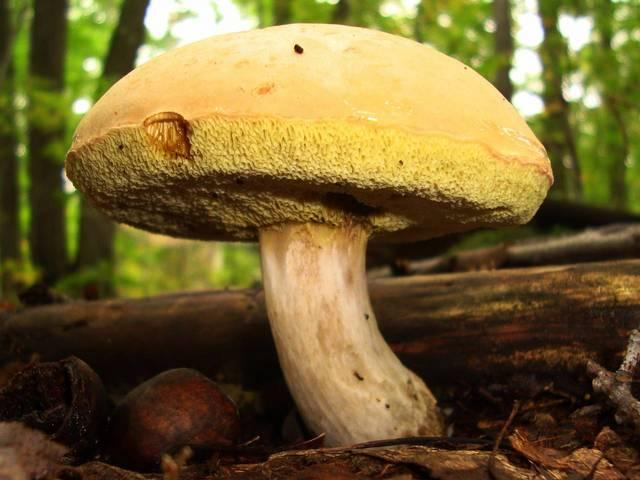edible_mushroom: (63, 21, 554, 448)
